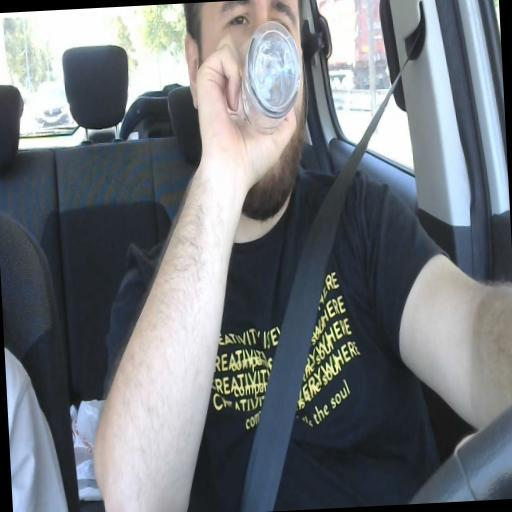Drinking: (187, 0, 305, 175)
